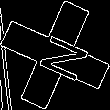N_NW: (23, 26, 87, 84)
